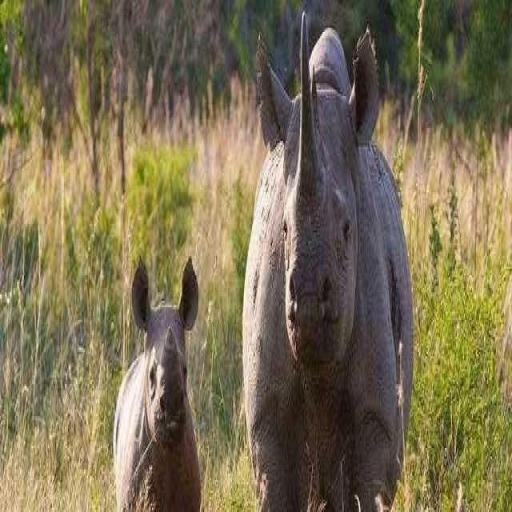Rhino: (240, 11, 414, 510), (112, 252, 202, 510)
